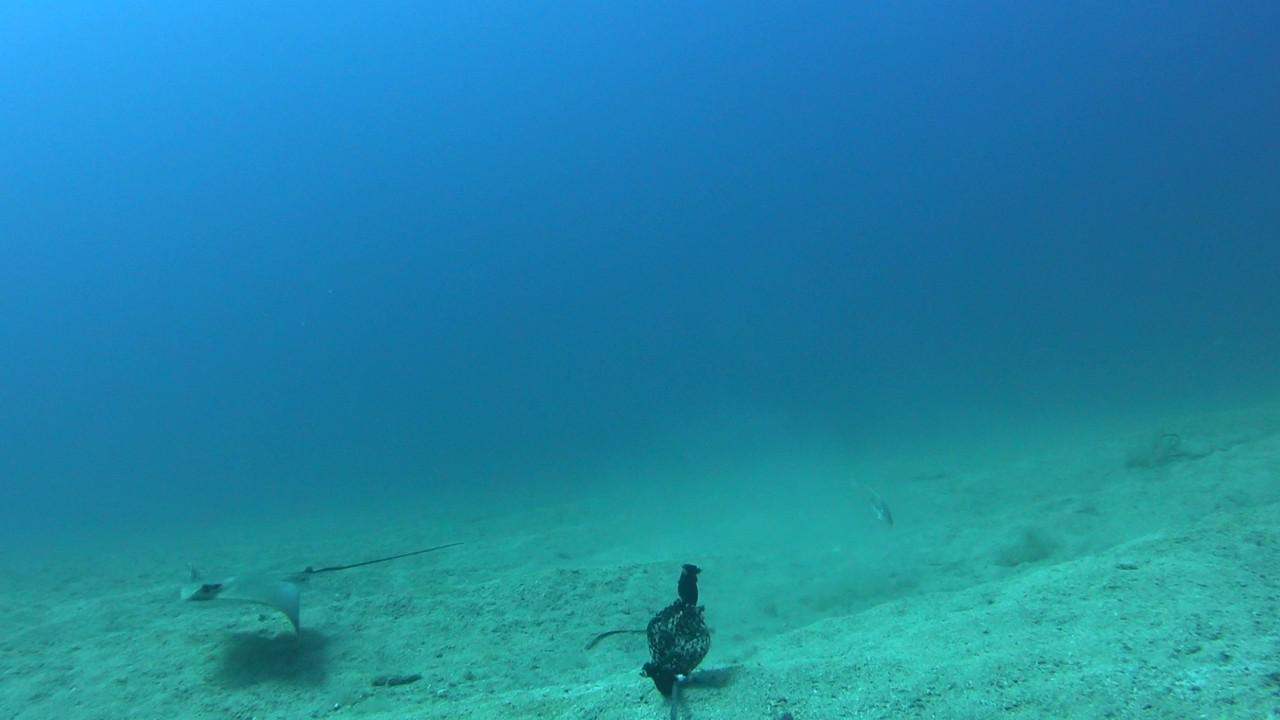myliobatis: (170, 528, 476, 652)
